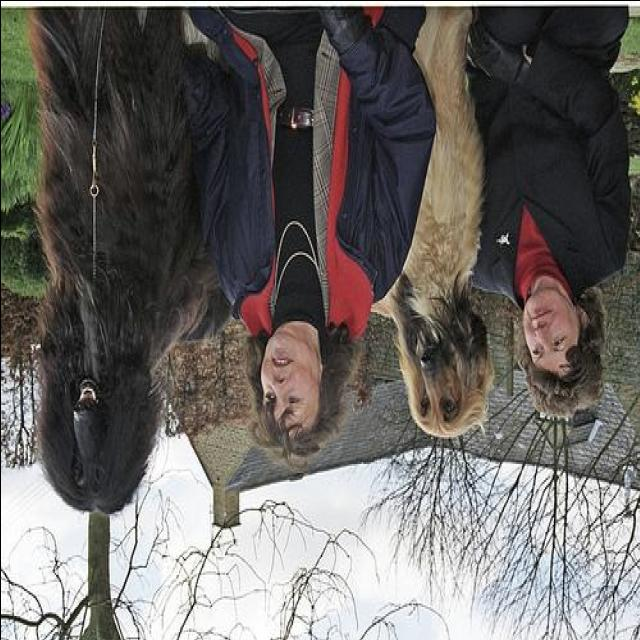afghan_hound: (36, 1, 230, 512), (370, 2, 496, 438)
